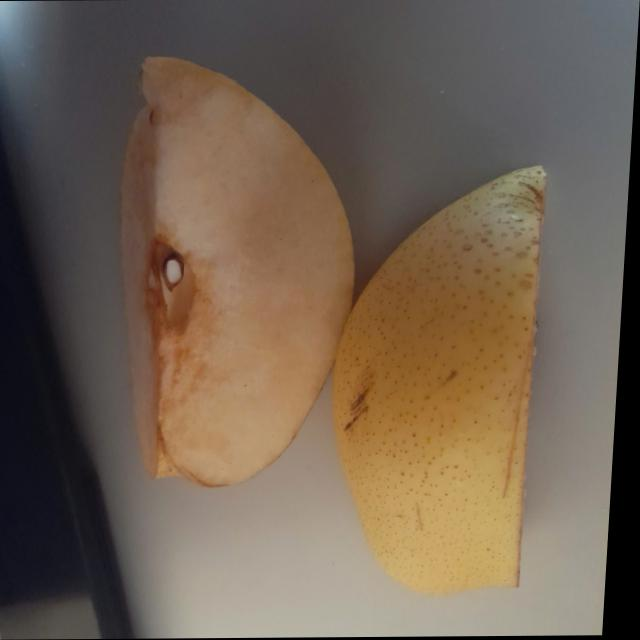Le: (105, 35, 375, 513), (321, 158, 561, 602)
